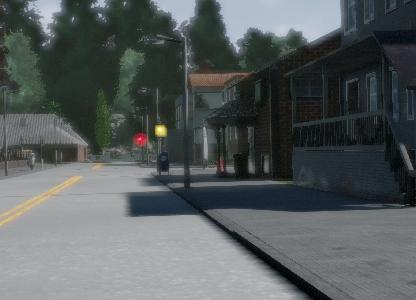Speed_60: (57, 101, 96, 142)
